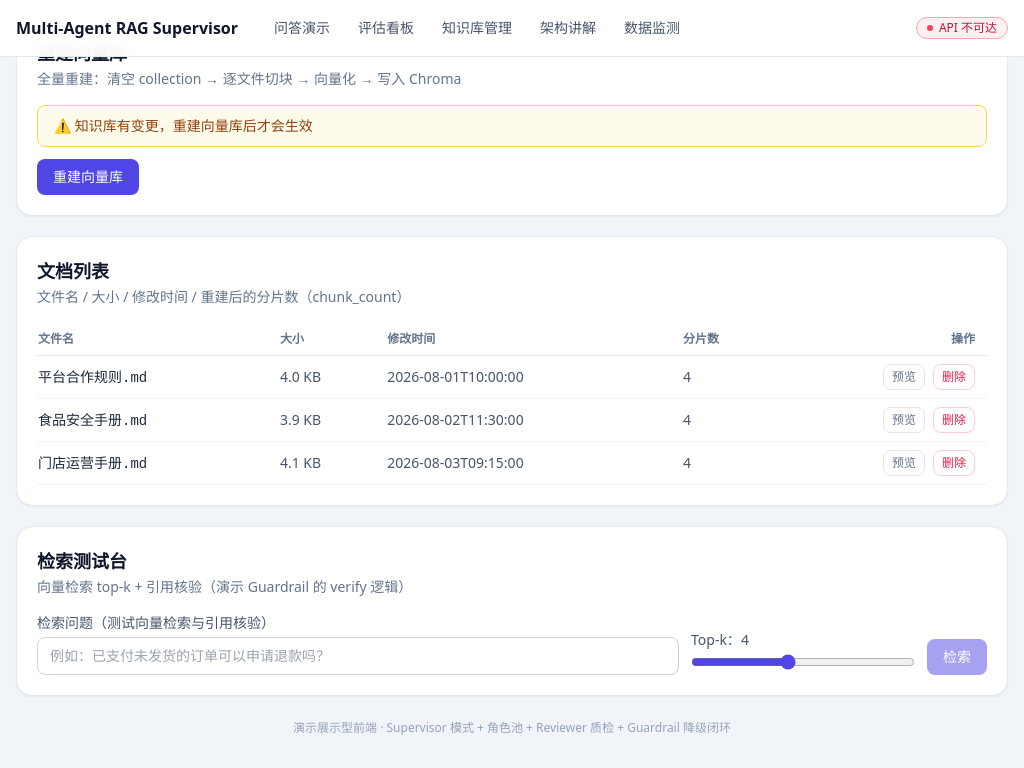
Scenario: KbPage › 检索测试台展示 top-k 结果与引用核验徽标
The image size is (1024, 768).
(page scrolled)
Expected: the number of rows with test id "doc-row" is 3, [37, 356, 987, 398]; [37, 398, 987, 442]; [37, 442, 987, 484]
Type "退款" into the field with test id "search-query" at (358, 656), box [37, 637, 679, 675]
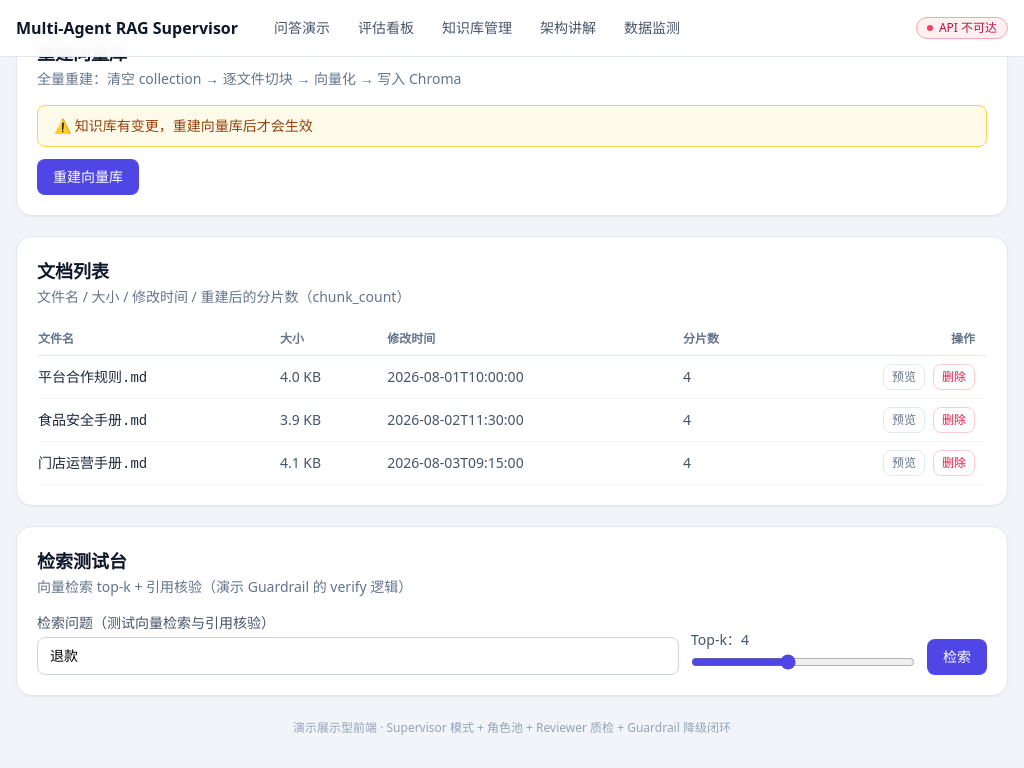
Click the button with test id "search-button" at (957, 657), box [927, 639, 987, 675]
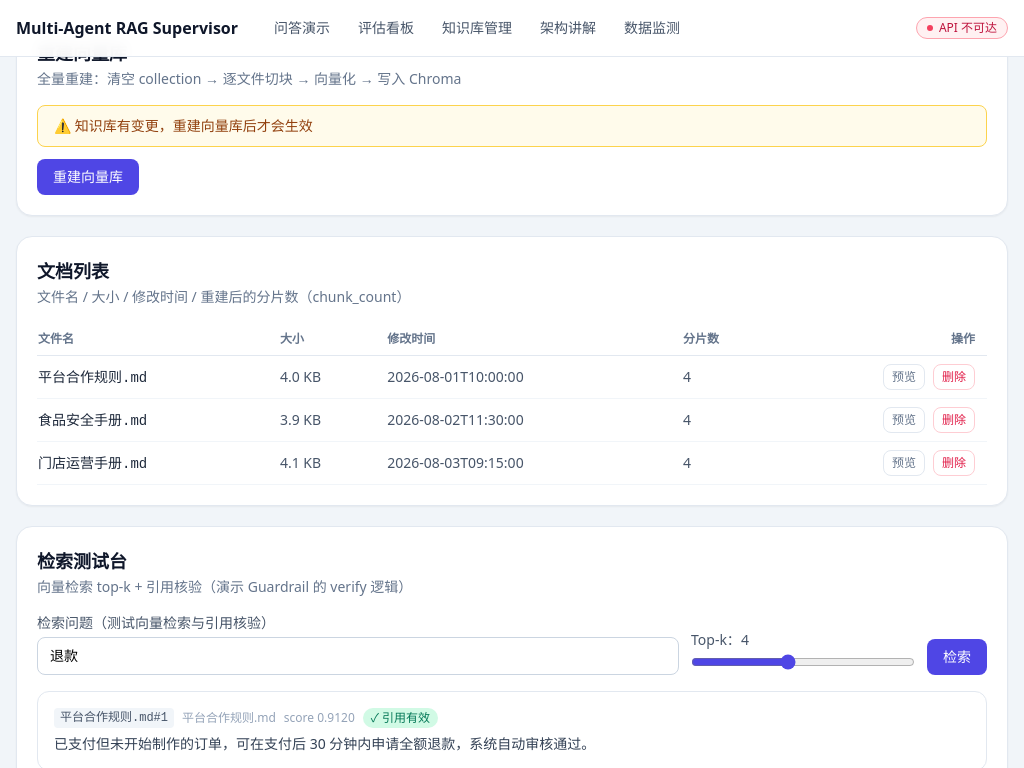
Result: the number of elements with test id "search-result-card" is 3
Result: the number of elements with test id "citation-badge" is 3
Result: the text "✓ 引用有效" is shown 2 times
